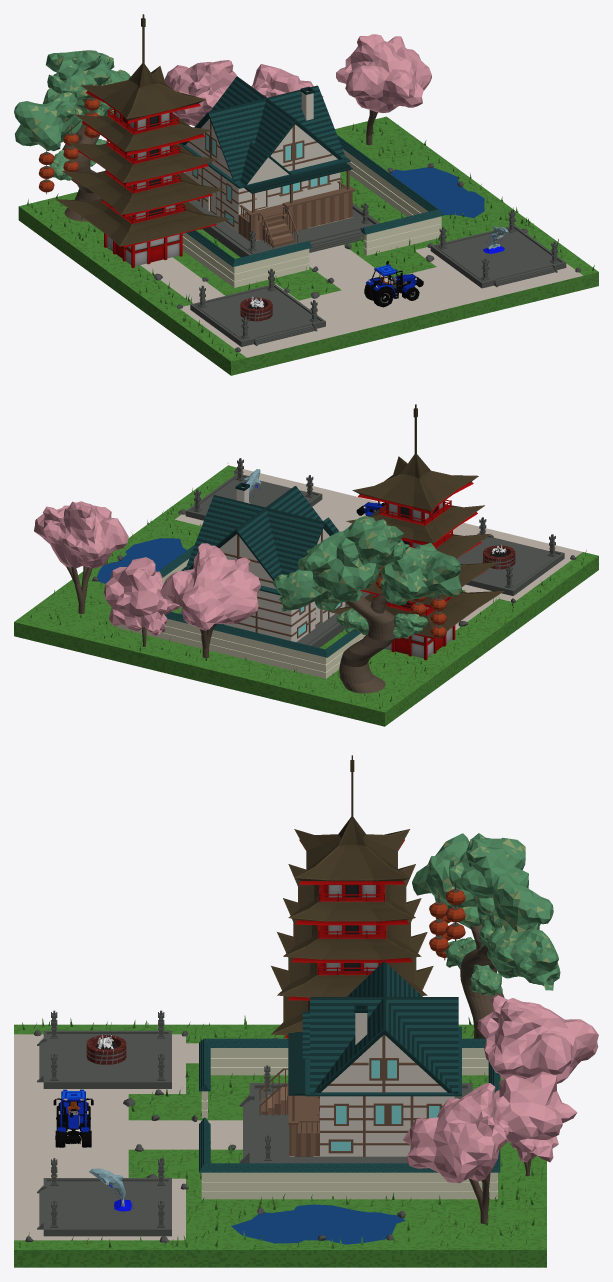
3 views of the same model, one above another, from view 1: azimuth 30°, elevation 25°; view 2: azimuth 150°, elevation 25°; view 3: azimuth 270°, elevation 25° (orthographic). The views are drawn at different scales.
Parts seen in each view (by area): view 1: Cube.005, Cube.793, VEHICLES_TRACTOR, OBJRANDOM_CAMPFIRE; view 2: Cube.005, Cube.793, OBJRANDOM_CAMPFIRE; view 3: Cube.005, Cube.793, VEHICLES_TRACTOR, OBJRANDOM_CAMPFIRE, ANIMAL_DELFIN.
Boxes of the visible parts, x1,y1,x2,y2 form: Cube.005: (14,14,598,375); Cube.793: (179,76,355,248); VEHICLES_TRACTOR: (364,260,423,307); OBJRANDOM_CAMPFIRE: (240,296,272,321); Cube.005: (14,404,598,726); Cube.793: (181,482,347,641); OBJRANDOM_CAMPFIRE: (482,544,515,569); Cube.005: (14,755,598,1267); Cube.793: (259,961,461,1156); VEHICLES_TRACTOR: (53,1089,93,1147); OBJRANDOM_CAMPFIRE: (86,1033,126,1064); ANIMAL_DELFIN: (89,1168,133,1211).
Bounding box in the file's own units: 4528 × 2690 × 4389.
Materials: 38 (6 with a texture image).
